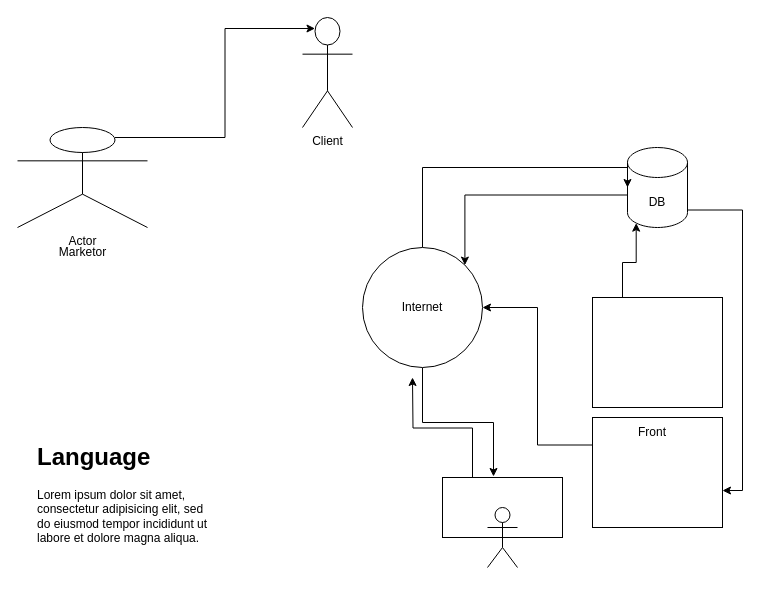
Some shapes in this 768 by 606 pixel diagram are drawn without their labels. The shapes that lost their labels are listed below. From the top down, each one's centre as x and y in pixels, then its label:
(657,352): Back
(502,537): User
